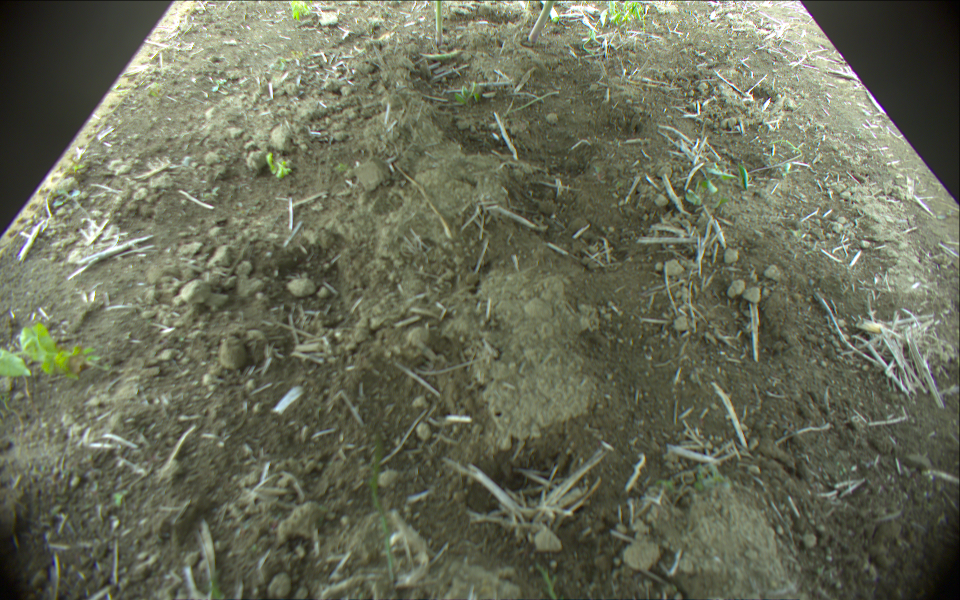aspa: (526, 1, 552, 45), (432, 1, 444, 46)
